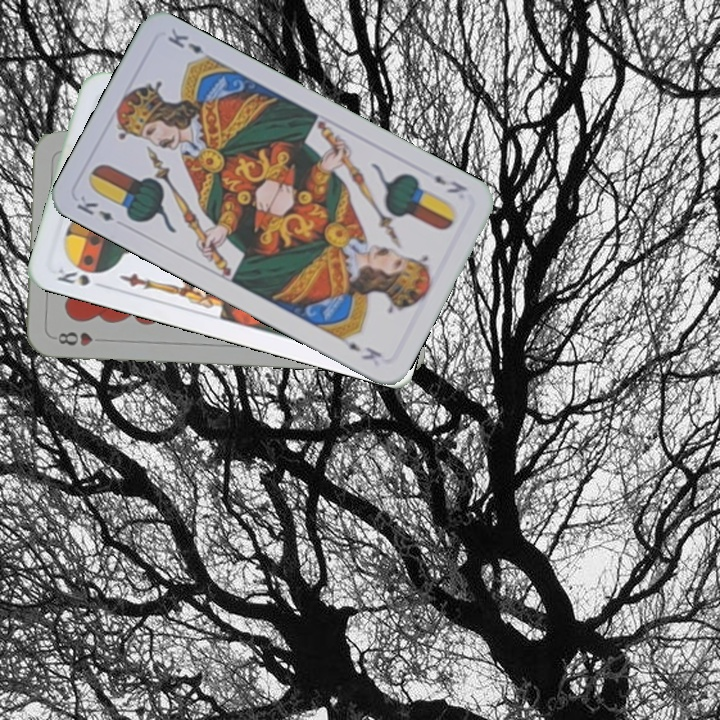EK: (72, 191, 116, 224), (430, 171, 470, 196)
H8: (54, 328, 96, 348)
SK: (53, 263, 93, 289)
